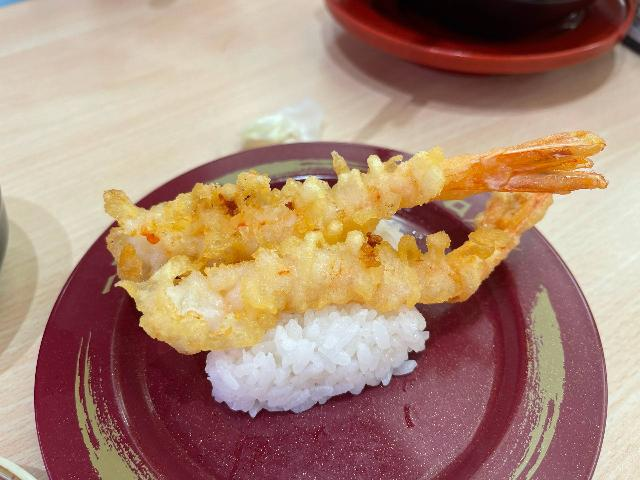janred: (11, 163, 640, 472), (326, 0, 634, 82)
